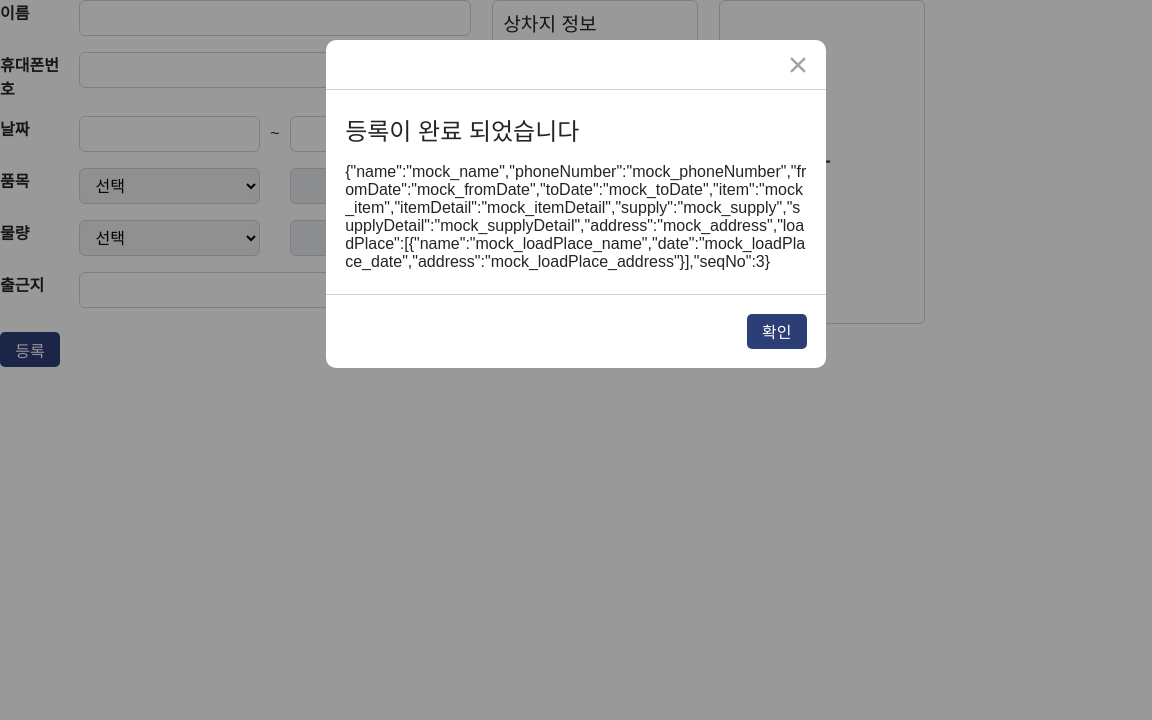
Test: src/layout/form/FormContainer › postOrderApi result is NOT empty › render post request modal component
The width and height of the screenshot is (1152, 720).
Check: the element with test id "post-request-result-modal" shows "등록이 완료 되었습니다", box [345,118,579,145]
Click the icon with test id "click-close-modal".
click(798, 64)  # box [778,44,818,84]
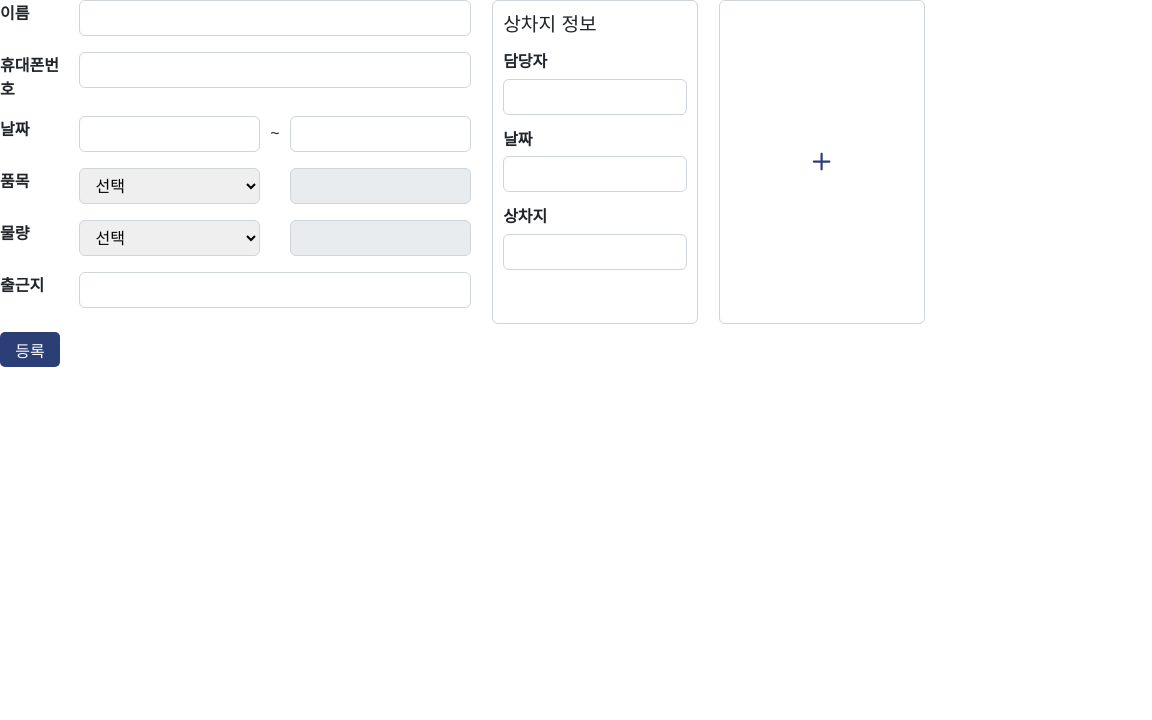
Check: the element with test id "post-request-result-modal" is gone
